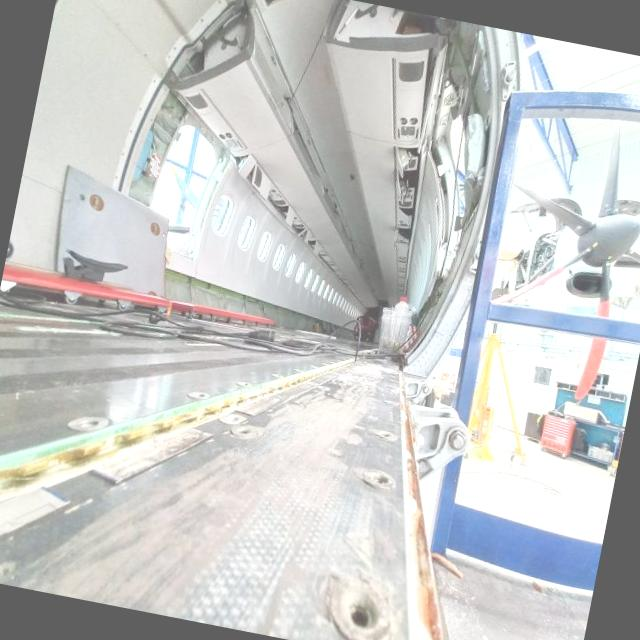Missing Fastener: (323, 568, 402, 640), (357, 461, 402, 498), (85, 406, 114, 442), (372, 424, 404, 446), (231, 425, 259, 443), (234, 374, 255, 392), (384, 396, 402, 412), (190, 388, 209, 403), (268, 368, 286, 382), (222, 411, 240, 424)
